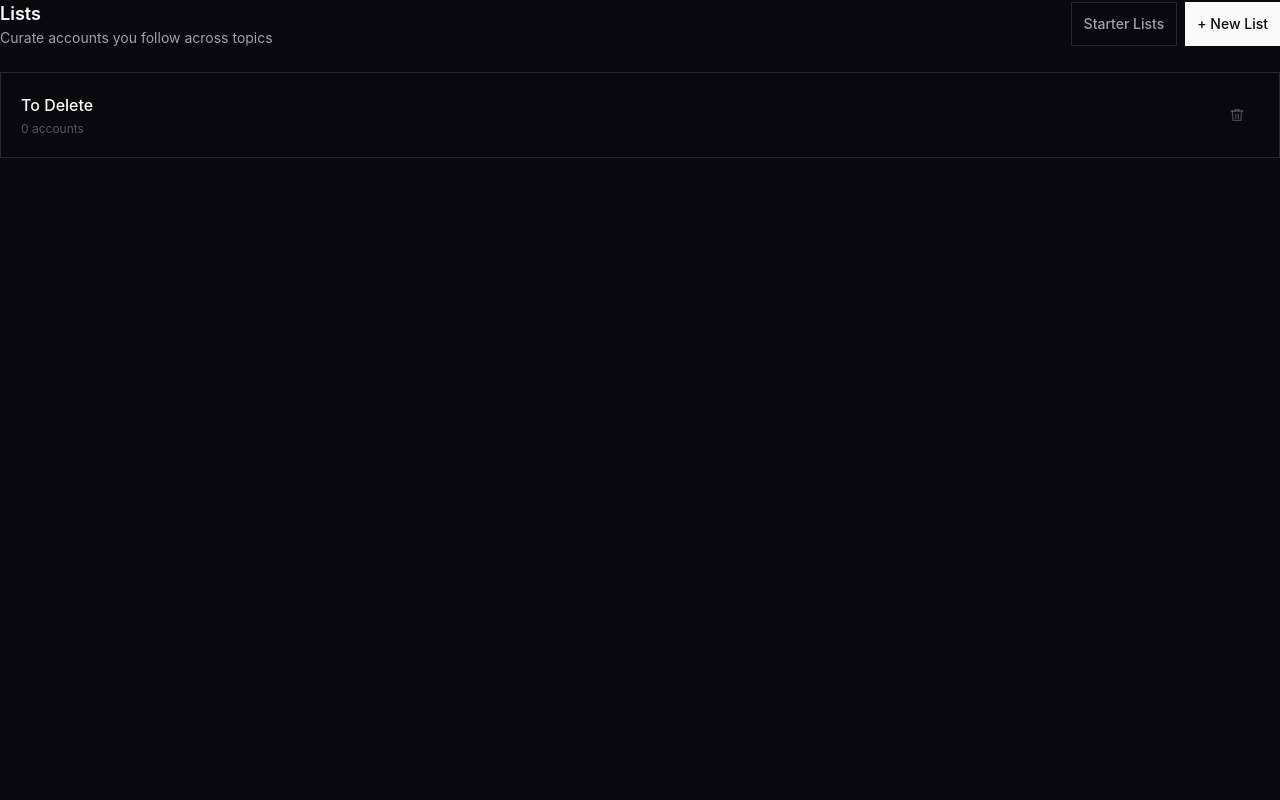
it: ListsPage › confirms before deleting a list
The width and height of the screenshot is (1280, 800).
Expected: the heading "To Delete" is shown, [21,93,93,117]
Click the button named "Delete To Delete". click: (1237,115)
box: [1215,93,1259,137]
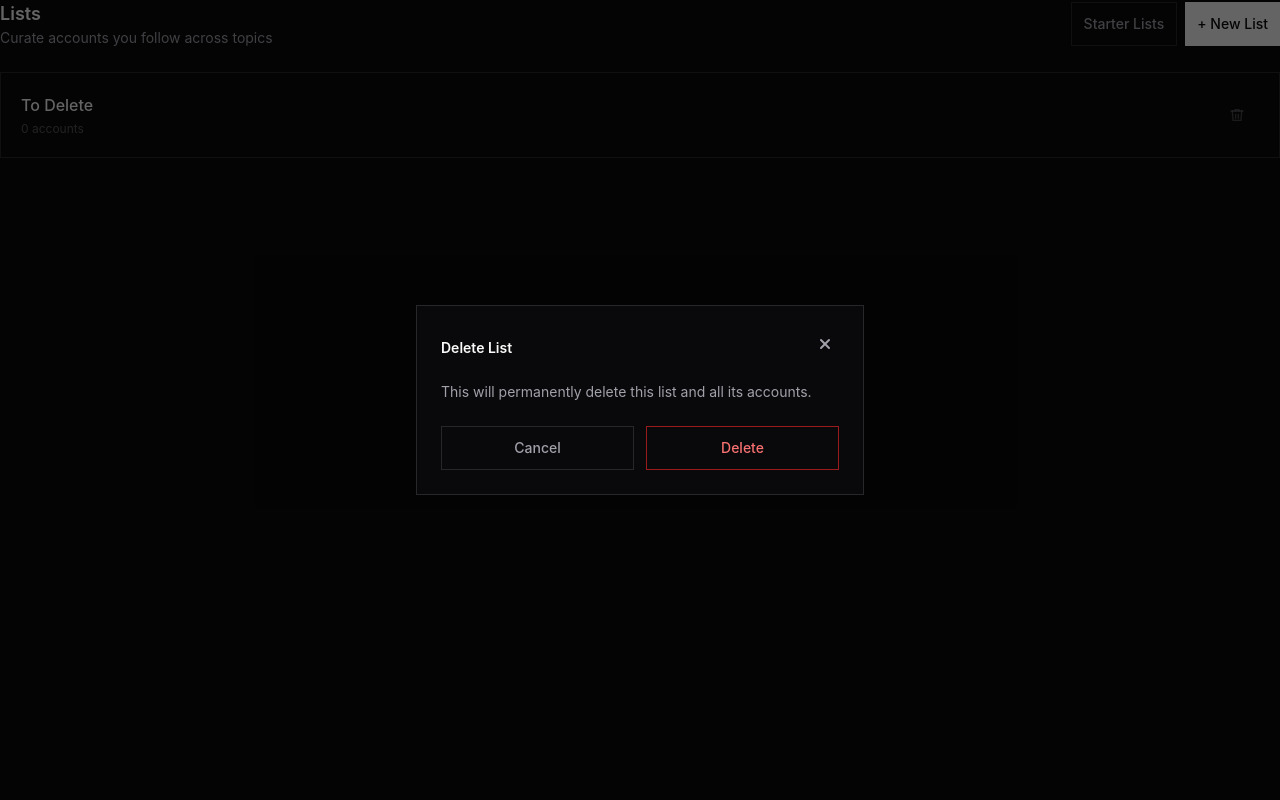
Now the heading "Delete List" is shown, box [441,338,512,358]
Now the text "This will permanently delete this list and all its accounts." is shown, box [441,382,839,402]
Click the button with test id "confirm-delete". click: (742,448)
box: [646,426,839,470]
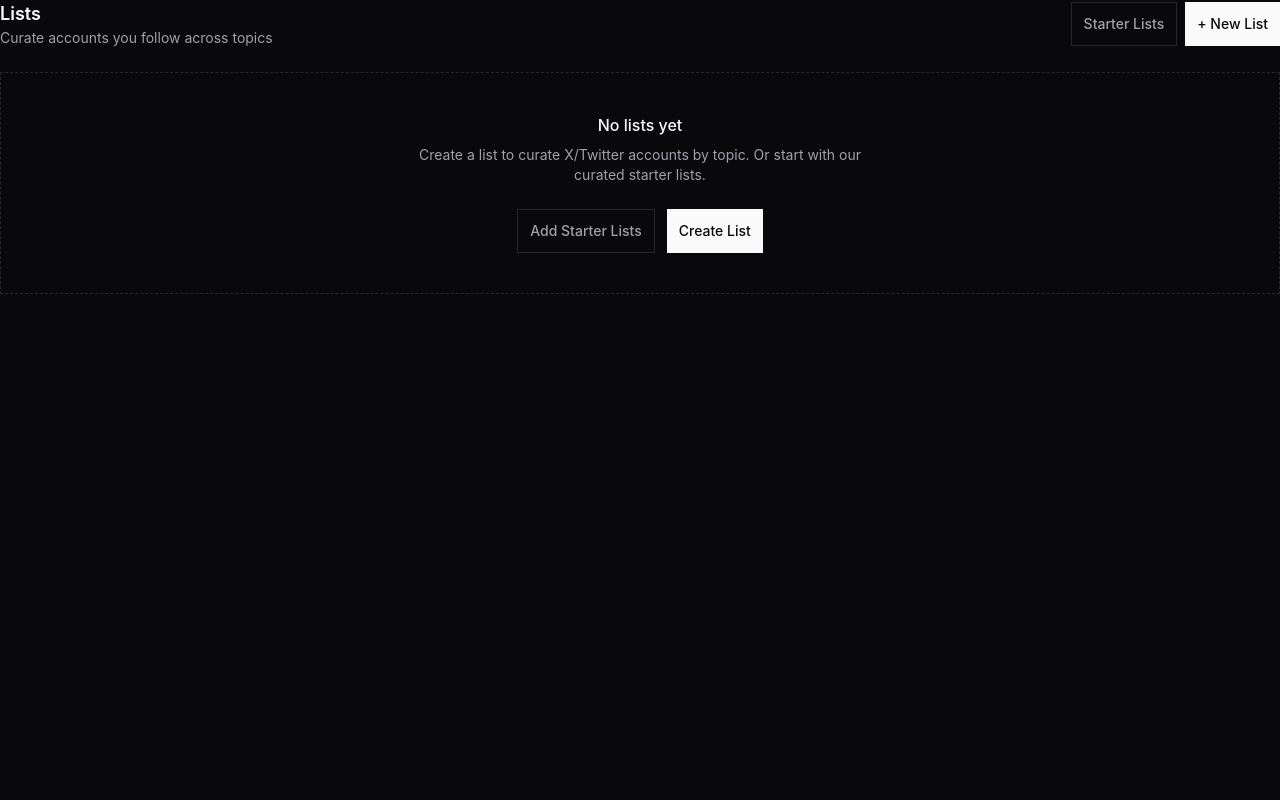
Now the button "To Delete" is gone
